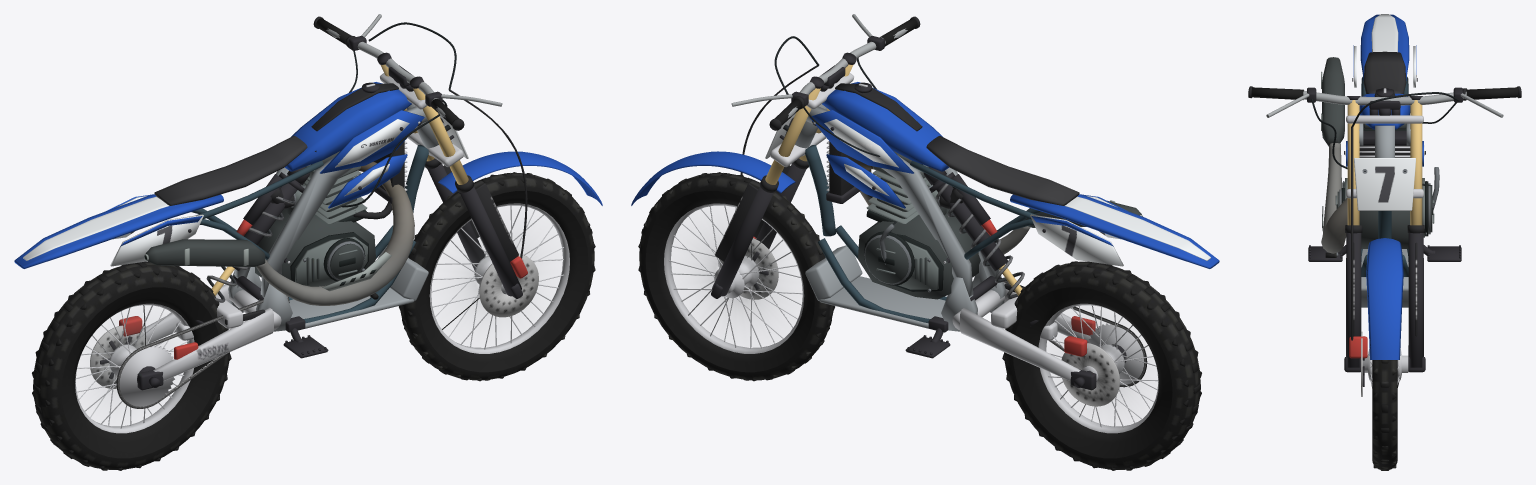
The model's file is bike-rookie-art.glb.
3 renders of one model, left to right at view 1: azimuth 30°, elevation 25°; view 2: azimuth 150°, elevation 25°; view 3: azimuth 270°, elevation 25°, orthographic. The views are drawn at different scales.
Parts seen in each view (by area): view 1: wheel_rear, bodywork, wheel_front, frame, exhaust, engine, fork_lower, swingarm, handlebar, fork_upper, sprocket_rear, shock_body (+7 smaller); view 2: wheel_rear, bodywork, wheel_front, frame, engine, fork_lower, swingarm, handlebar, wheel_front_blur, fork_upper, wheel_front_spokes, shock_body (+6 smaller); view 3: fork_lower, fork_upper, bodywork, handlebar, exhaust, wheel_front, frame, engine, pegs, brake_hose.
Boxes of the visible parts, left/top/right/bottom form: wheel_rear: left=32, top=261, right=231, bottom=470; bodywork: left=14, top=82, right=424, bottom=268; wheel_front: left=398, top=172, right=595, bottom=381; frame: left=191, top=104, right=438, bottom=332; exhaust: left=144, top=161, right=414, bottom=305; engine: left=255, top=150, right=378, bottom=299; fork_lower: left=425, top=151, right=602, bottom=298; swingarm: left=119, top=281, right=281, bottom=390; handlebar: left=313, top=14, right=502, bottom=207; fork_upper: left=377, top=52, right=468, bottom=184; sprocket_rear: left=119, top=345, right=174, bottom=406; shock_body: left=232, top=167, right=310, bottom=271; wheel_rear: left=1002, top=261, right=1201, bottom=470; bodywork: left=809, top=82, right=1219, bottom=268; wheel_front: left=638, top=172, right=835, bottom=381; frame: left=795, top=104, right=1042, bottom=332; engine: left=858, top=151, right=980, bottom=299; fork_lower: left=631, top=151, right=808, bottom=298; swingarm: left=952, top=282, right=1096, bottom=390; handlebar: left=731, top=14, right=922, bottom=235; wheel_front_blur: left=695, top=232, right=777, bottom=321; fork_upper: left=765, top=52, right=856, bottom=184; wheel_front_spokes: left=668, top=205, right=802, bottom=348; shock_body: left=923, top=167, right=1007, bottom=271; fork_lower: left=1344, top=225, right=1425, bottom=372; fork_upper: left=1346, top=96, right=1423, bottom=225; bodywork: left=1344, top=14, right=1425, bottom=166; handlebar: left=1248, top=86, right=1521, bottom=185; exhaust: left=1321, top=57, right=1360, bottom=253; wheel_front: left=1361, top=331, right=1408, bottom=470; frame: left=1359, top=77, right=1410, bottom=307; engine: left=1325, top=123, right=1439, bottom=257; pegs: left=1308, top=245, right=1461, bottom=261; brake_hose: left=1351, top=127, right=1353, bottom=340.
Bounding box in the file's own units: 2.06 × 1.2 × 0.875.
Materials: 16 (7 with a texture image).
